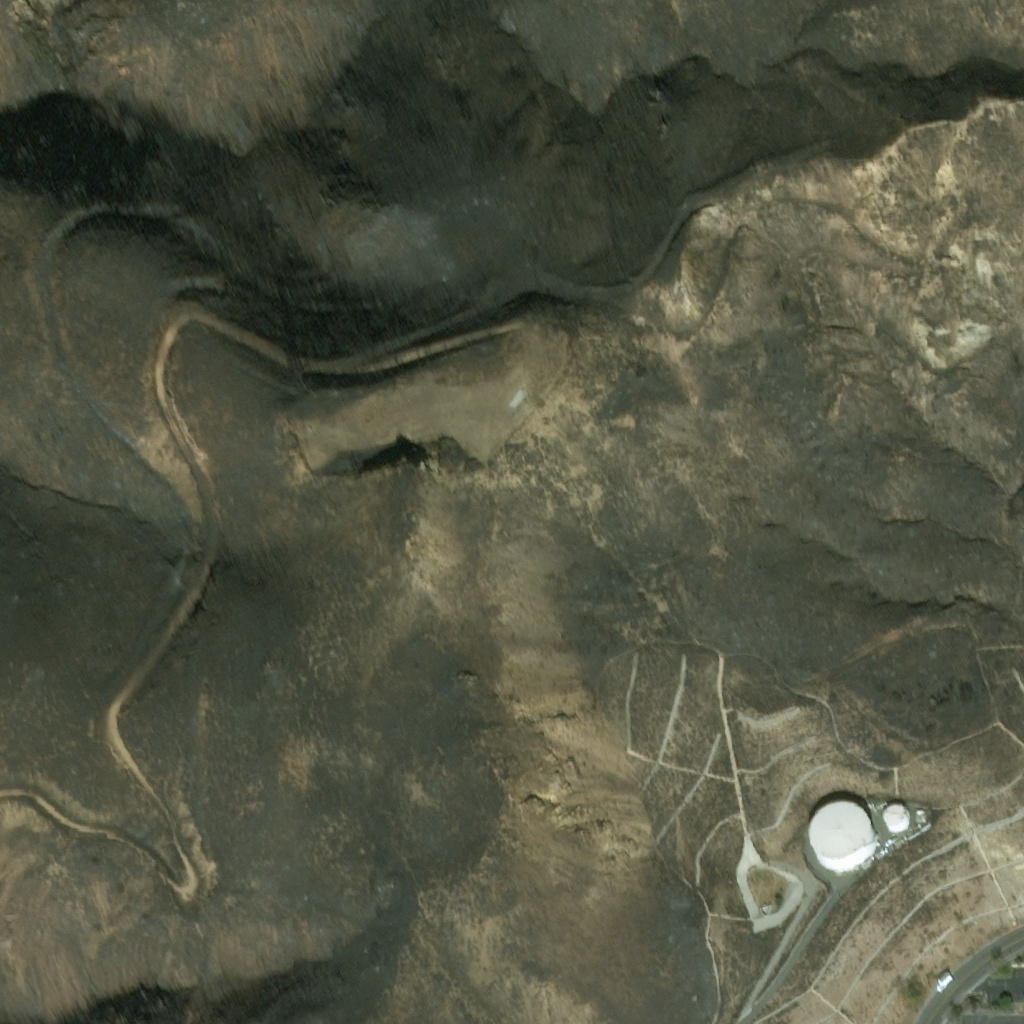0 no-damage: (809, 805, 875, 872), (883, 806, 909, 832), (508, 387, 525, 409), (915, 808, 924, 814)
4 un-classified: (307, 423, 311, 428)
